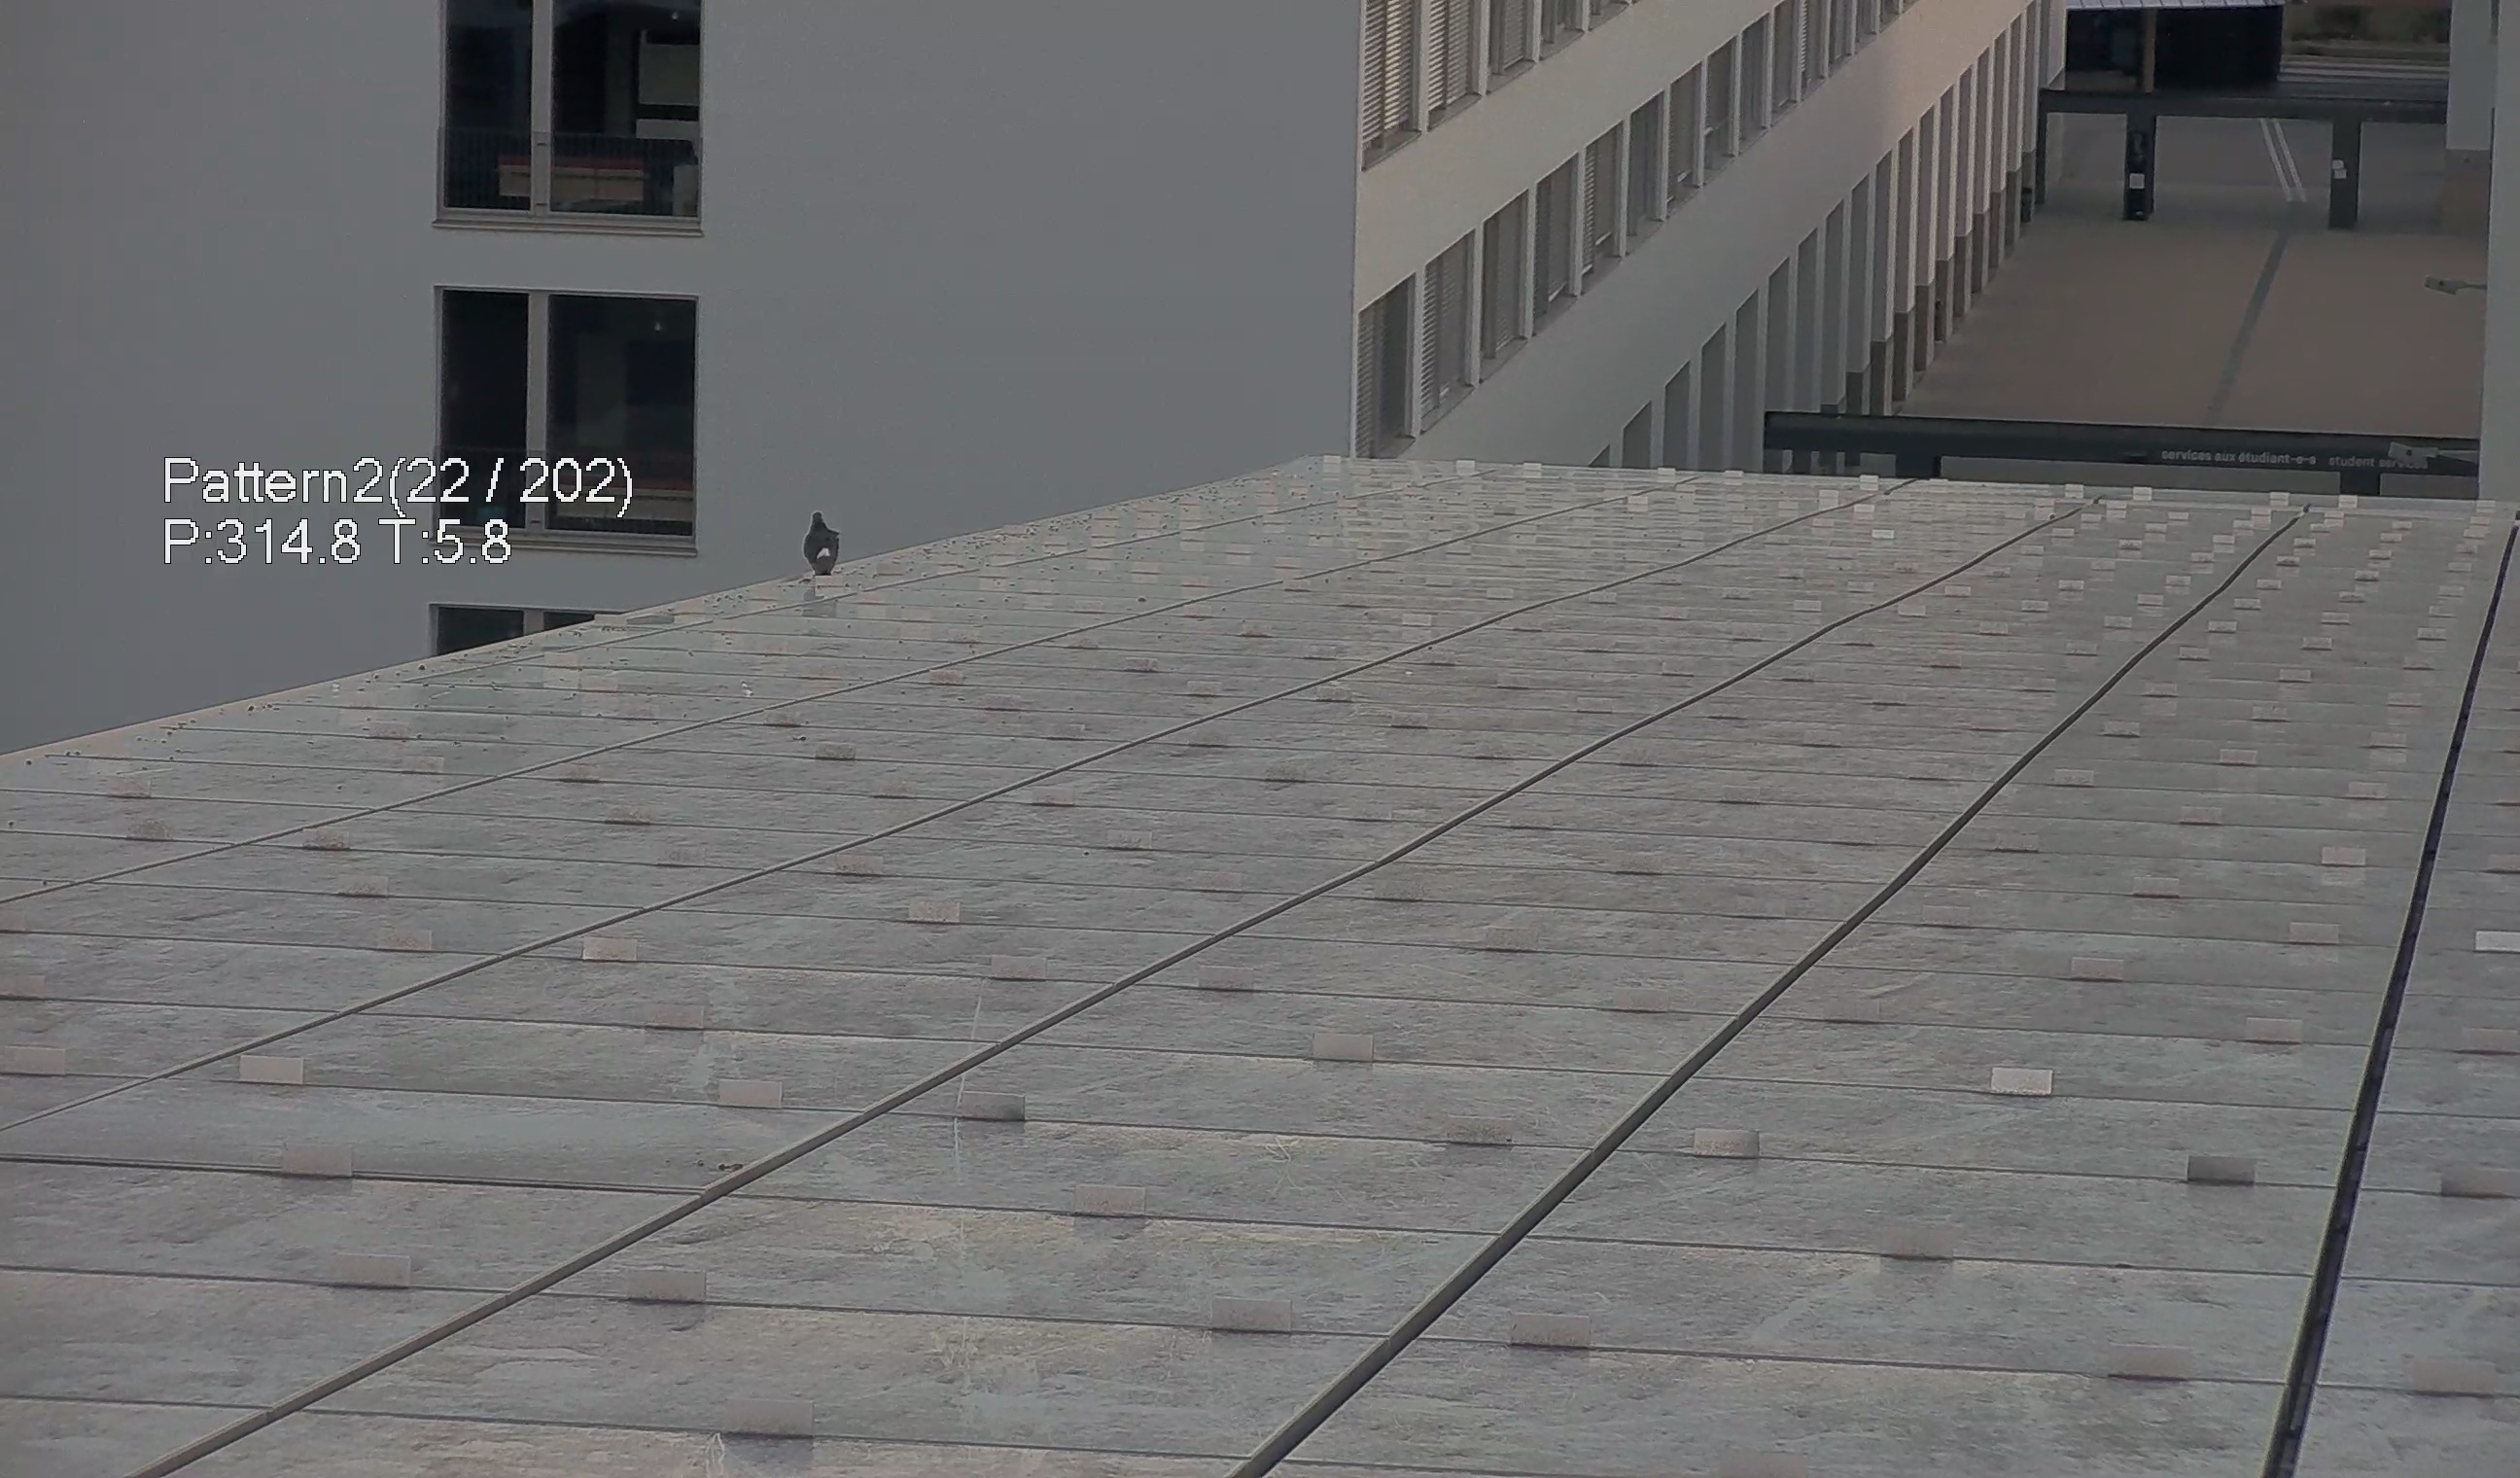Pigeon: (798, 496, 848, 589)
